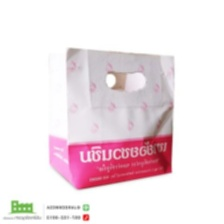snack: (39, 38, 181, 196)
